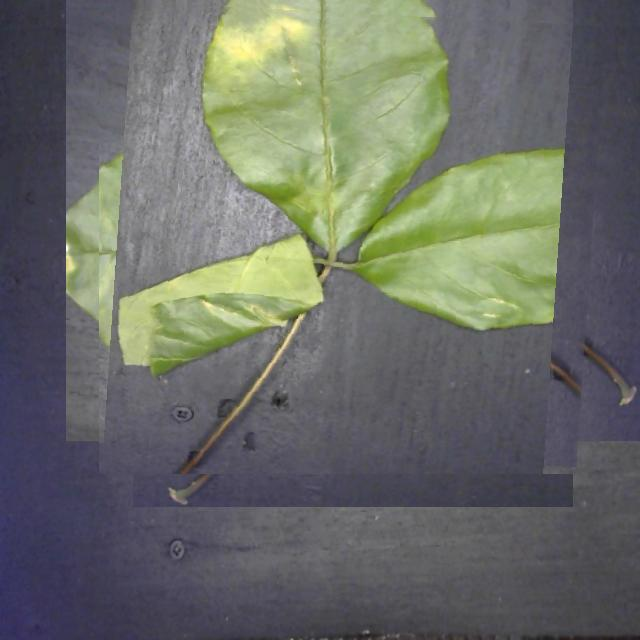biodegradable: (99, 0, 606, 474)
